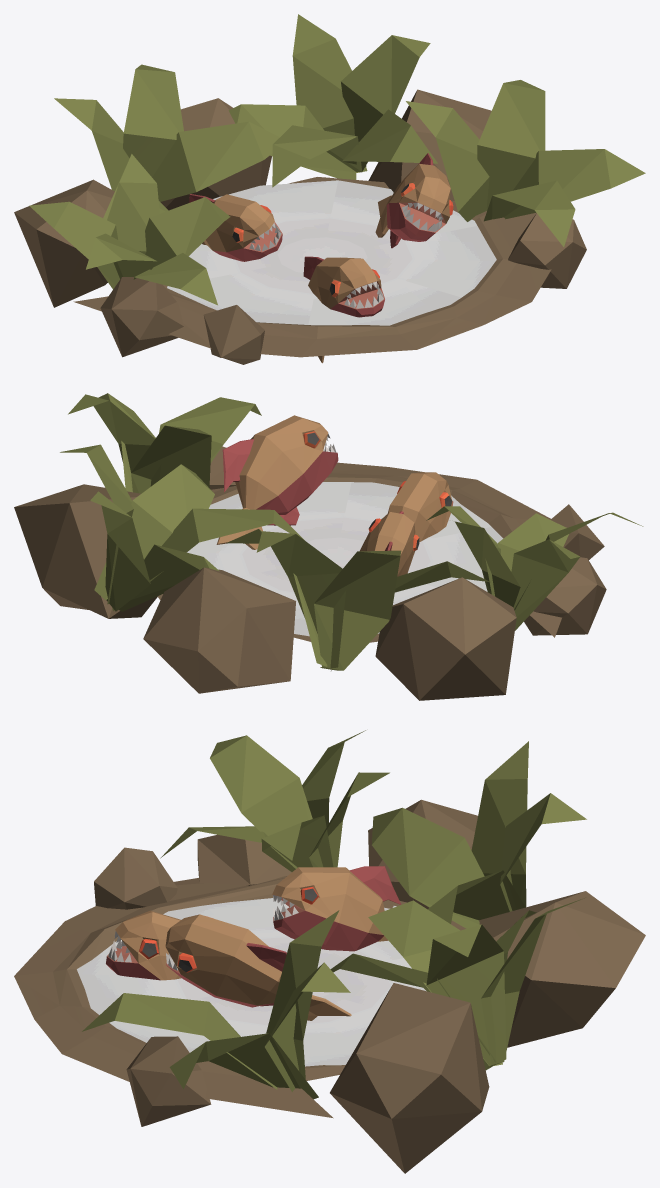
File: piranhaPool.fbx
3 renders of one model, top to bottom at view 1: azimuth 30°, elevation 25°; view 2: azimuth 150°, elevation 25°; view 3: azimuth 270°, elevation 25°, orthographic. The views are drawn at different scales.
Parts seen in each view (by area): view 1: piranhaPool; view 2: piranhaPool; view 3: piranhaPool.
Part boxes in pixels (x1,y1,x2,y2): piranhaPool: (14, 14, 645, 364); piranhaPool: (14, 393, 643, 700); piranhaPool: (14, 730, 645, 1173).
Bounding box in the file's own units: 3.21 × 1.12 × 2.72.
Materials: 2 (2 with a texture image).
